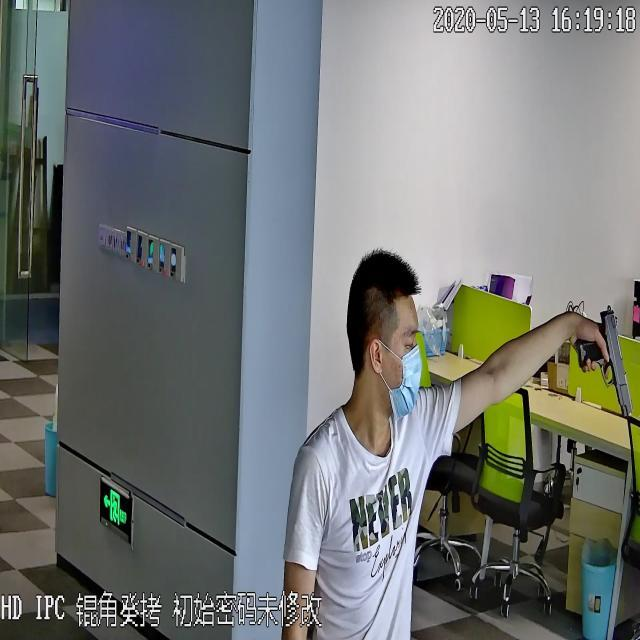gun: (573, 303, 636, 425)
